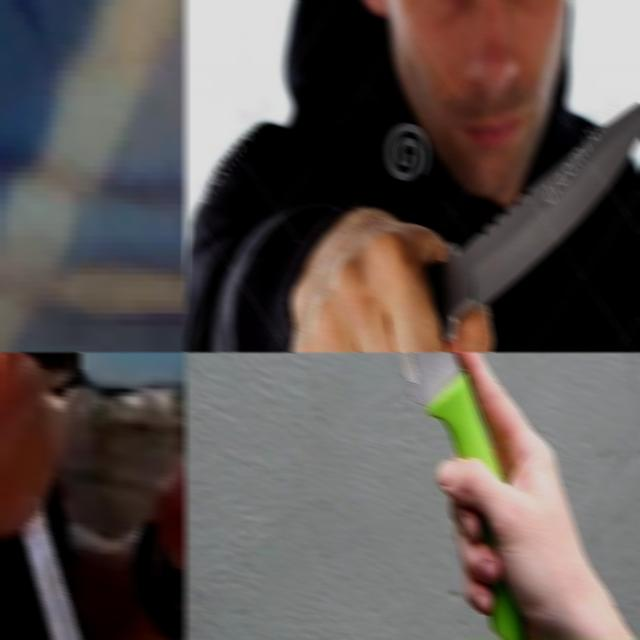Knife: (422, 102, 640, 340), (397, 352, 500, 473), (19, 508, 108, 640)
Knife_Handle: (290, 67, 640, 352), (320, 352, 640, 640), (0, 175, 186, 352), (0, 352, 108, 640)
